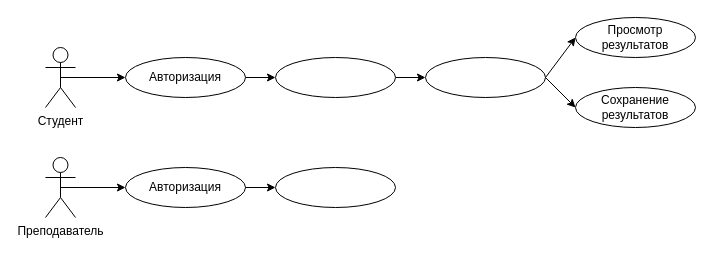
This 713x256 diagram has some shape labels left out. The centre of each missing label's shape, as x and y in pixels:
"Начать тестирование" belongs at [335,77].
"Ответить на вопросы" belongs at [485,77].
"Просмотр всех результатов" belongs at [335,187].
